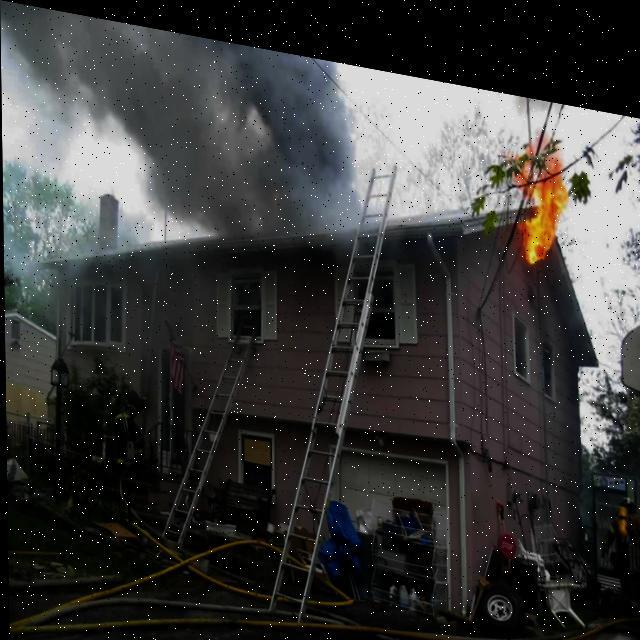Fire: (514, 138, 566, 248)
